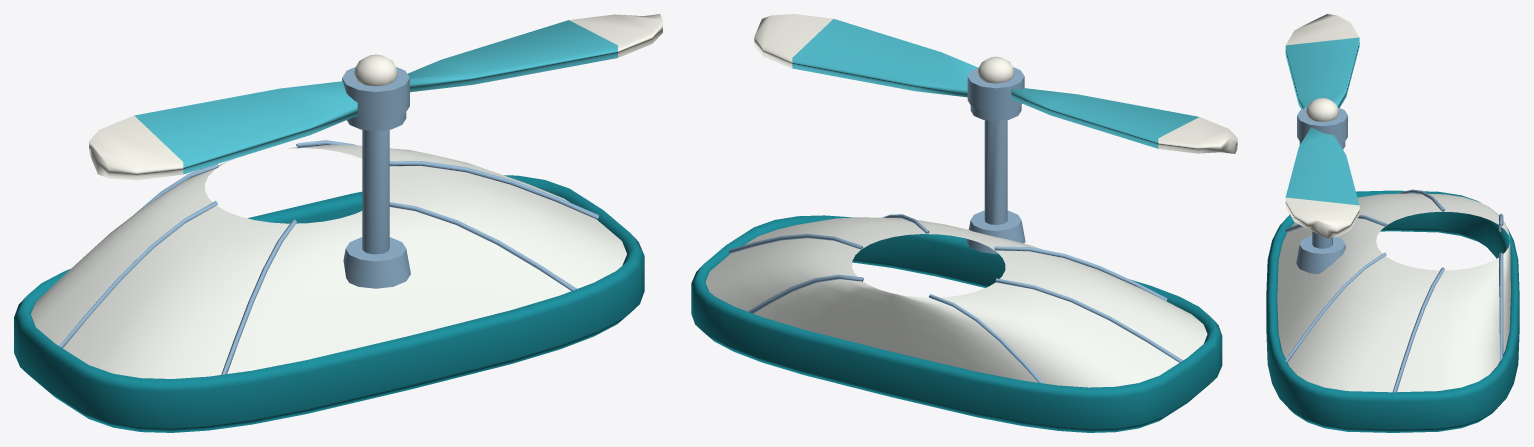
File: glide-quarantine-beanie.glb
The picture shows the model from 3 angles, left to right: view 1: azimuth 30°, elevation 25°; view 2: azimuth 150°, elevation 25°; view 3: azimuth 270°, elevation 25°; orthographic projection. The views are drawn at different scales.
Visible parts, largest first — view 1: glide-quarantine-beanie, spin; view 2: glide-quarantine-beanie, spin; view 3: glide-quarantine-beanie, spin.
Boxes of the visible parts, x1=… form: glide-quarantine-beanie: x1=14, y1=112, x2=644, y2=432; spin: x1=89, y1=14, x2=662, y2=180; glide-quarantine-beanie: x1=691, y1=105, x2=1222, y2=432; spin: x1=754, y1=14, x2=1237, y2=153; glide-quarantine-beanie: x1=1266, y1=141, x2=1519, y2=432; spin: x1=1285, y1=14, x2=1359, y2=238.
Bounding box in the file's own units: 0.556 × 0.291 × 0.288.
